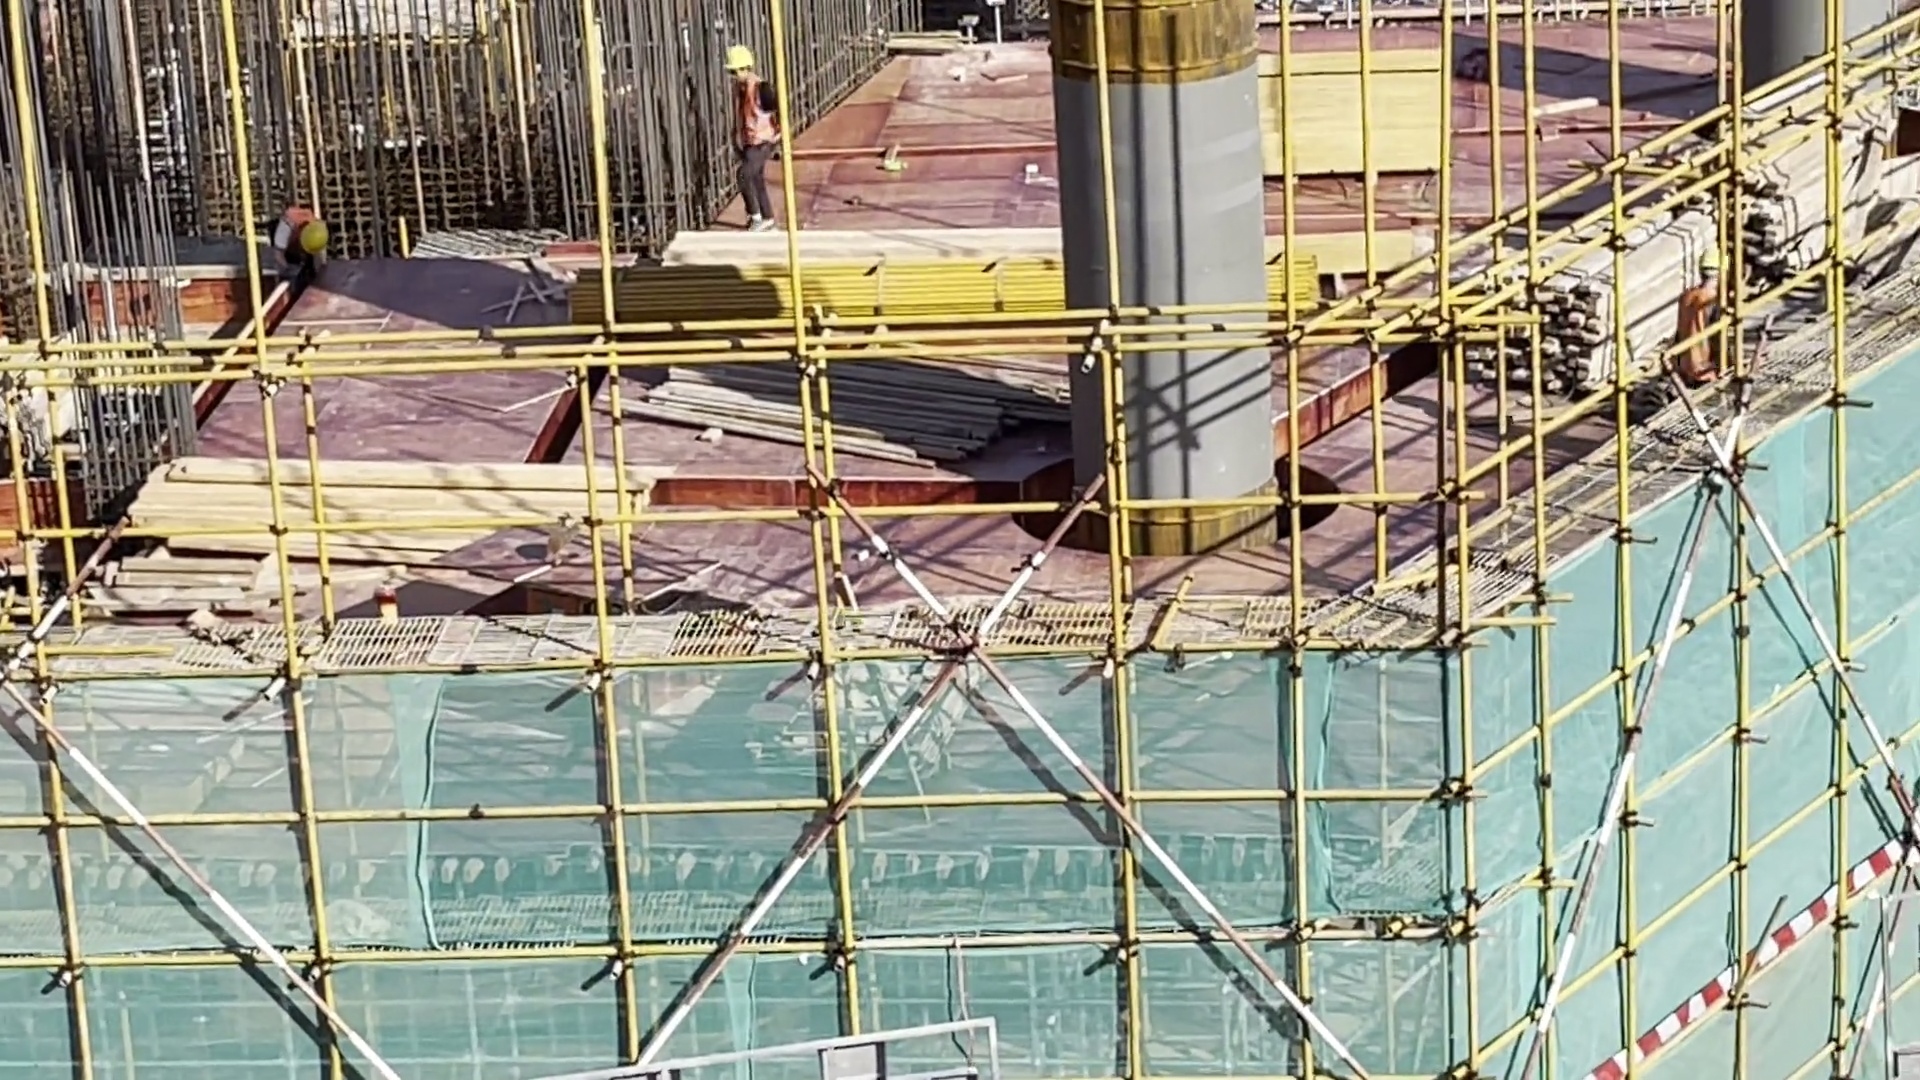board: (1243, 26, 1441, 180)
helmet: (716, 45, 768, 90), (295, 216, 337, 255), (1695, 249, 1725, 285)
person: (726, 38, 783, 245), (1680, 251, 1726, 419), (259, 202, 344, 274)
vest: (728, 77, 778, 157), (281, 203, 319, 237)
wood: (129, 448, 648, 574), (1452, 221, 1684, 405), (1736, 99, 1887, 298)
